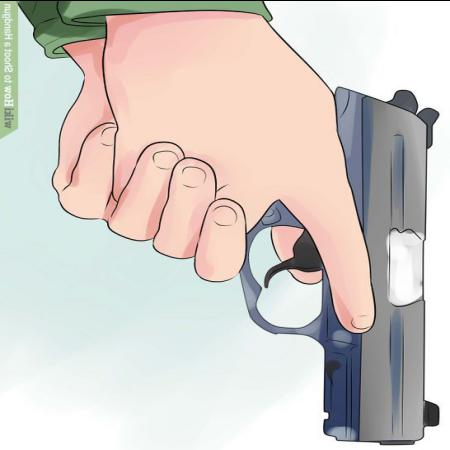Pistol: (238, 66, 438, 448)
